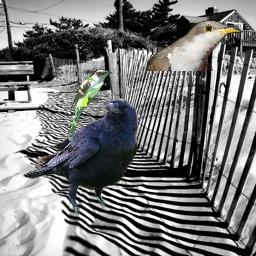Crow: (22, 98, 138, 215)
Cuckoo: (146, 20, 242, 71), (67, 69, 113, 139)
